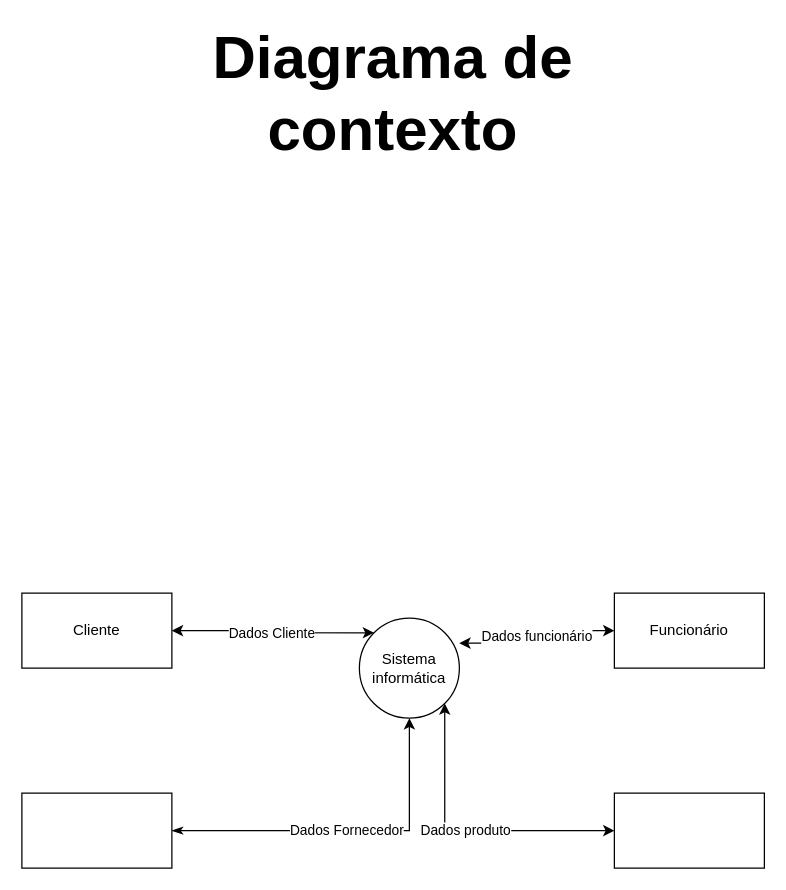
Image size: 786x890. Some labels were removed from this diagram. Each missing label, with the centre of its shape:
Fornecedor: the point at 96,830
Produto: the point at 688,830
